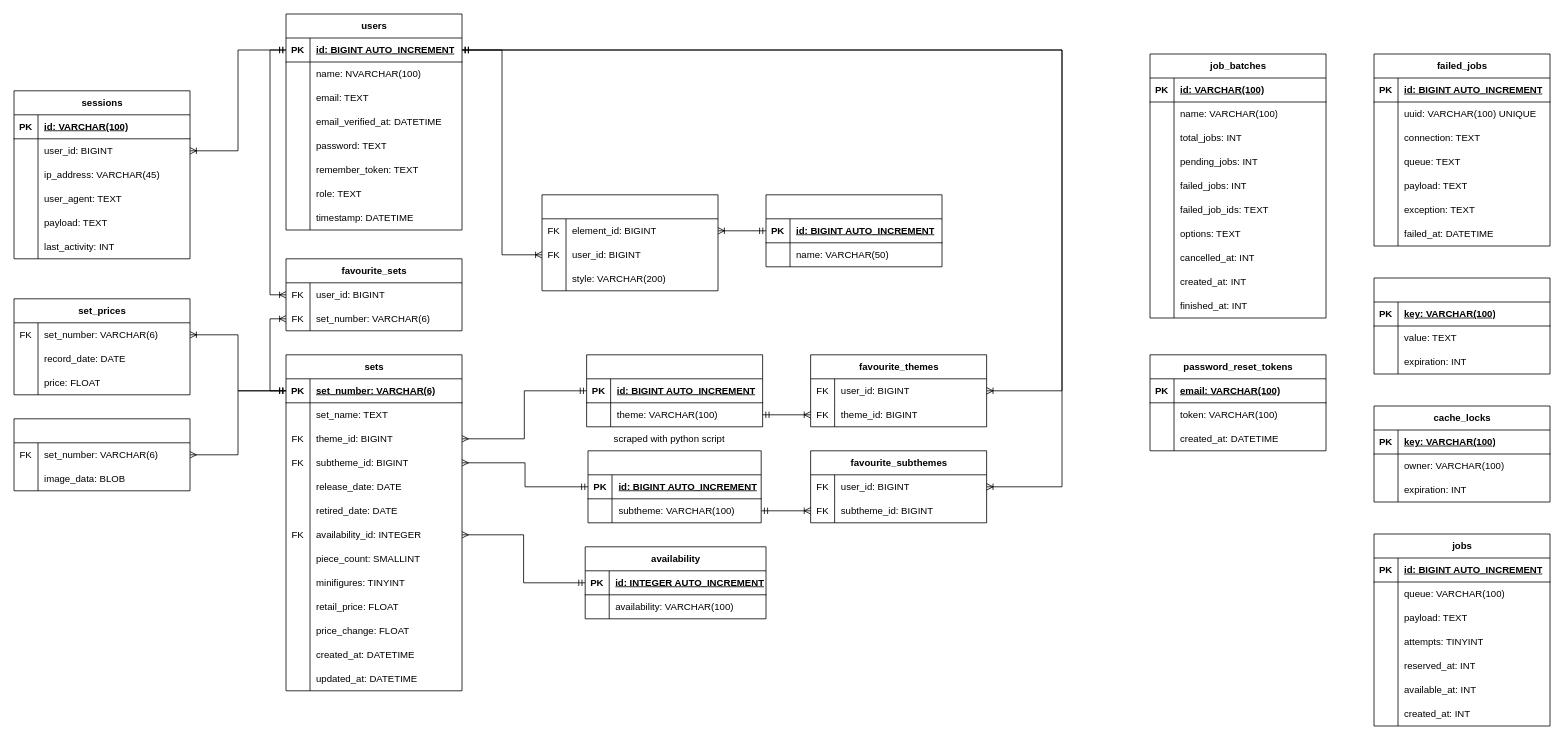
Some shapes in this 1564 by 740 pixel diagram are drawn without their labels. Each missing label, with the box of its shape:
cache: (1373, 277, 1550, 374)
dashboard_elements: (765, 194, 942, 267)
set_images: (13, 418, 190, 491)
subthemes: (587, 450, 761, 523)
themes: (586, 354, 763, 427)
user_dashboard_layouts: (541, 194, 718, 291)
